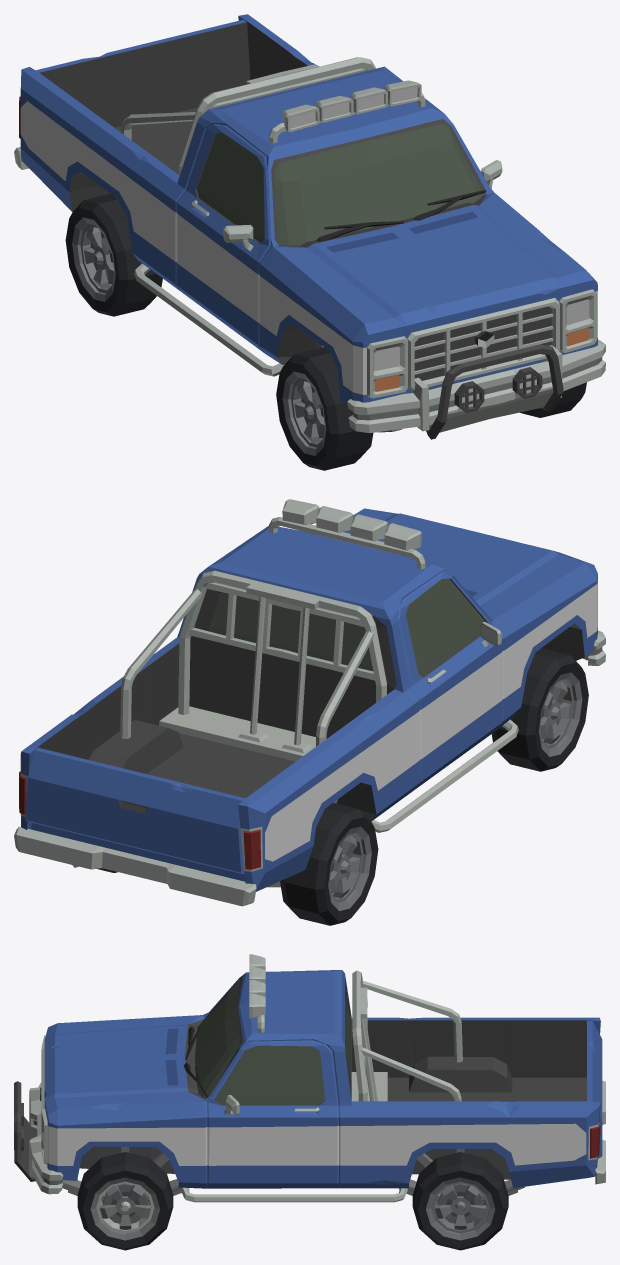
File: SM_Veh_Pickup_01.fbx
The picture shows the model from 3 angles, top to bottom: view 1: azimuth 30°, elevation 25°; view 2: azimuth 150°, elevation 25°; view 3: azimuth 270°, elevation 25°; orthographic projection. The views are drawn at different scales.
Visible parts, largest first — view 1: SM_Veh_Pickup_01, SM_Veh_Pickup_Glass, SM_Veh_Pickup_Wheel_fr, SM_Veh_Pickup_Wheel_rr, SM_Veh_Pickup_Wheel_fl; view 2: SM_Veh_Pickup_01, SM_Veh_Pickup_Glass, SM_Veh_Pickup_Wheel_rr, SM_Veh_Pickup_Wheel_fr; view 3: SM_Veh_Pickup_01, SM_Veh_Pickup_Glass, SM_Veh_Pickup_Wheel_fl, SM_Veh_Pickup_Wheel_rl.
Part boxes in pixels (x1,y1,x2,y2): SM_Veh_Pickup_01: [14, 14, 605, 439]; SM_Veh_Pickup_Glass: [197, 124, 482, 245]; SM_Veh_Pickup_Wheel_fr: [276, 347, 373, 470]; SM_Veh_Pickup_Wheel_rr: [65, 193, 162, 316]; SM_Veh_Pickup_Wheel_fl: [520, 382, 586, 417]; SM_Veh_Pickup_01: [14, 499, 605, 906]; SM_Veh_Pickup_Glass: [209, 579, 485, 676]; SM_Veh_Pickup_Wheel_rr: [280, 803, 378, 925]; SM_Veh_Pickup_Wheel_fr: [491, 648, 588, 771]; SM_Veh_Pickup_01: [14, 954, 605, 1204]; SM_Veh_Pickup_Glass: [194, 980, 350, 1104]; SM_Veh_Pickup_Wheel_fl: [77, 1152, 173, 1250]; SM_Veh_Pickup_Wheel_rl: [412, 1152, 508, 1250].
Size of the model in its own units: 234 by 227 by 544.
